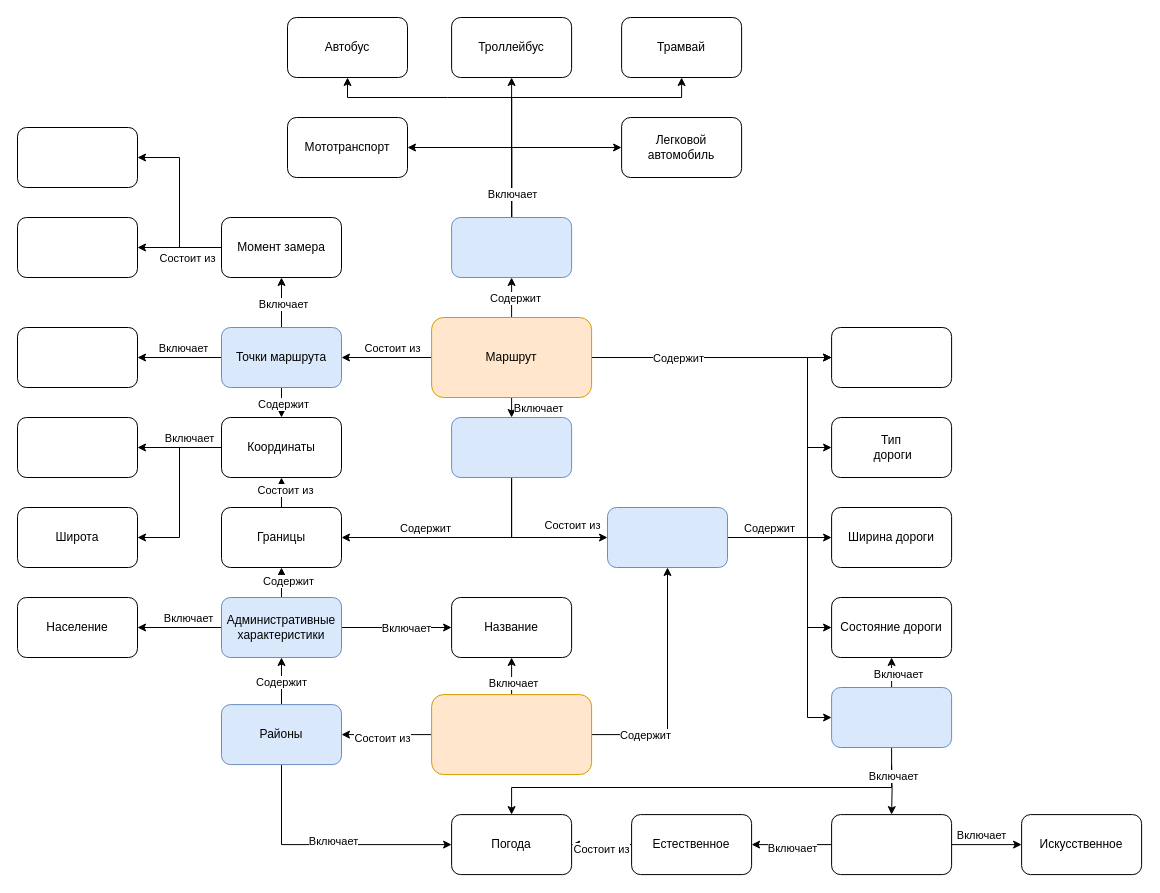
This 1160x893 diagram has some shape labels left out. The shapes that lost their labels are listed below. From the top down, each one's centre as x and y in pixels, then its label:
At point 77,157: "Время".
At point 77,247: "Дата".
At point 511,247: "Тип транспорта".
At point 77,357: "Скорость".
At point 891,357: "Протяженность".
At point 77,447: "Долгота".
At point 511,447: "Дорожные участки".
At point 667,537: "Дороги".
At point 511,734: "Город".
At point 891,717: "Дорожные условия".
At point 891,844: "Освещение".
